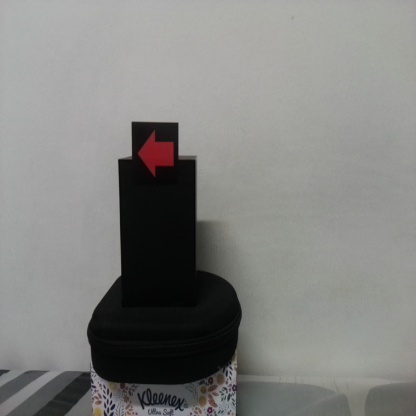id_4: (132, 122, 178, 189)
